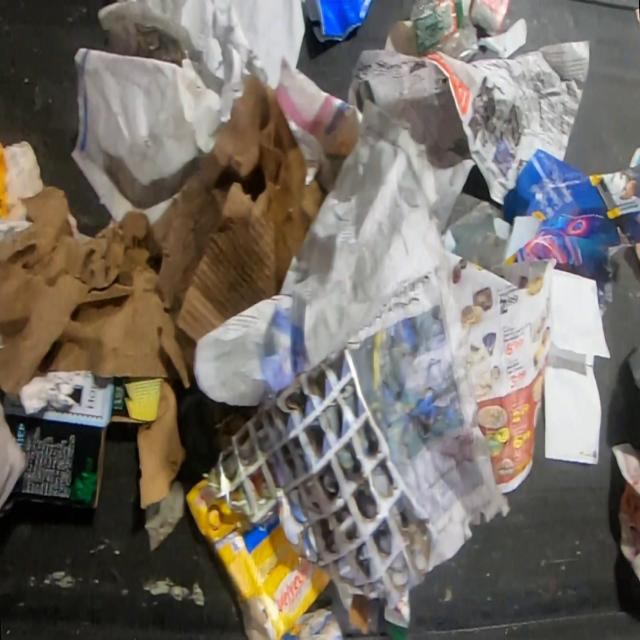cardboard: (0, 70, 327, 428), (183, 469, 332, 640), (4, 375, 165, 512), (136, 377, 188, 512), (3, 375, 114, 428), (0, 137, 45, 237)
soft_plastic: (408, 0, 480, 58)
